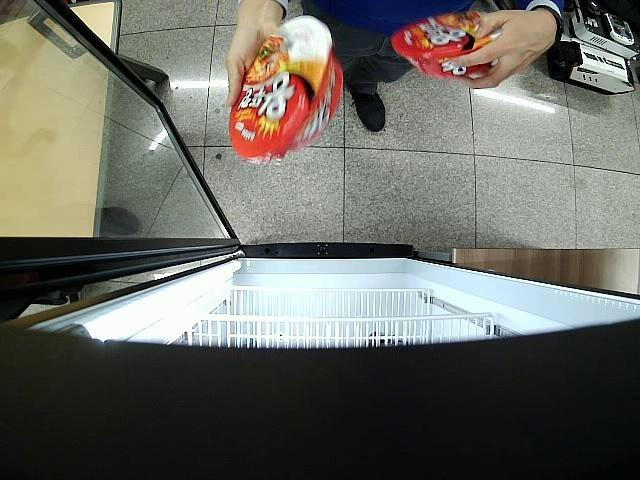10_wangTtukkeong: (229, 15, 343, 166), (391, 12, 501, 80)
